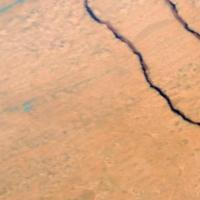crack: (79, 1, 199, 135)
